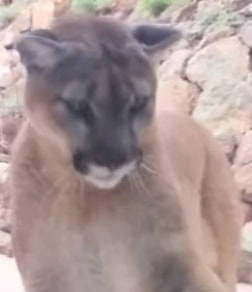Mountain Lion: (12, 20, 244, 290)
